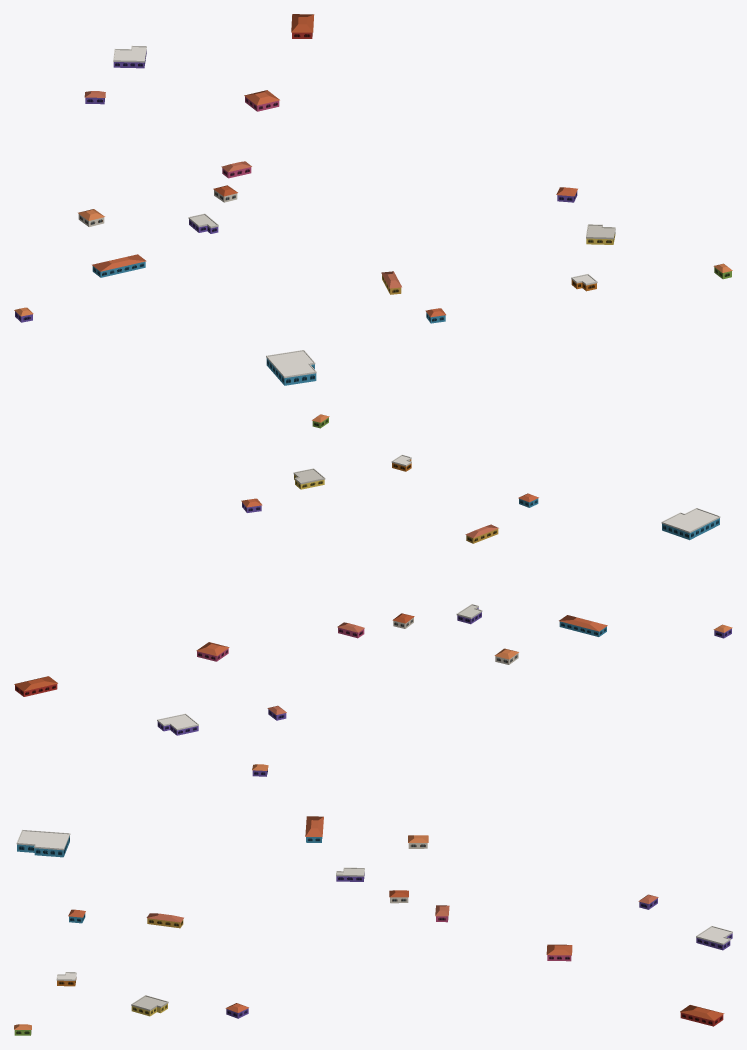
The model's file is msb_palmbeach_m22_m10.glb.
3 renders of one model, top to bottom at view 1: azimuth 30°, elevation 25°; view 2: azimuth 150°, elevation 25°; view 3: azimuth 270°, elevation 25°, orthographic. The views are drawn at different scales.
Parts seen in each view (by area): view 1: msb_palmbeach_m22_m10_lod0; view 2: msb_palmbeach_m22_m10_lod0; view 3: msb_palmbeach_m22_m10_lod0.
Boxes of the visible parts, x1=… form: msb_palmbeach_m22_m10_lod0: x1=14, y1=14, x2=732, y2=385; msb_palmbeach_m22_m10_lod0: x1=14, y1=414, x2=732, y2=735; msb_palmbeach_m22_m10_lod0: x1=14, y1=764, x2=732, y2=1035.
Size of what is drawn, in the model's own units: 321 by 11.3 by 370.
3 materials, 1 textured.
